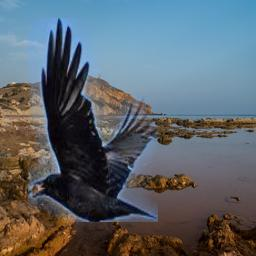Crow: (28, 18, 158, 222)
